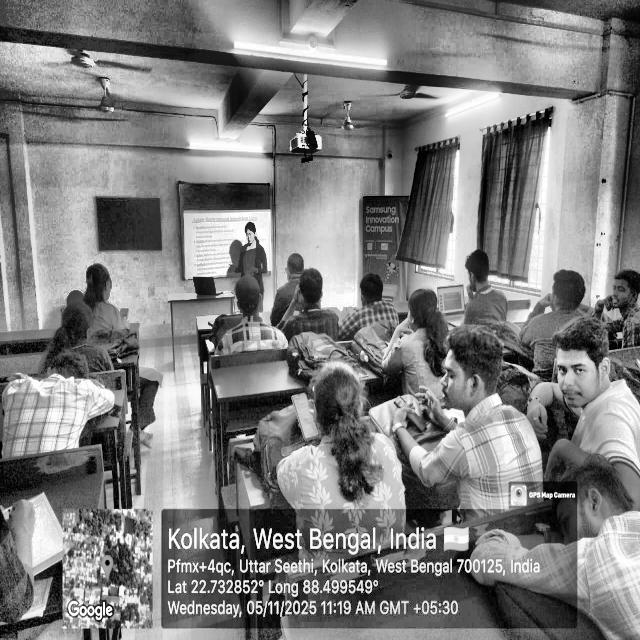Focus: (259, 240, 482, 404), (276, 339, 398, 476), (64, 228, 127, 371), (456, 233, 526, 333), (227, 220, 291, 283)
Not Focus: (428, 339, 520, 493), (523, 302, 618, 436), (558, 472, 635, 598), (37, 354, 115, 429), (597, 260, 640, 344)
